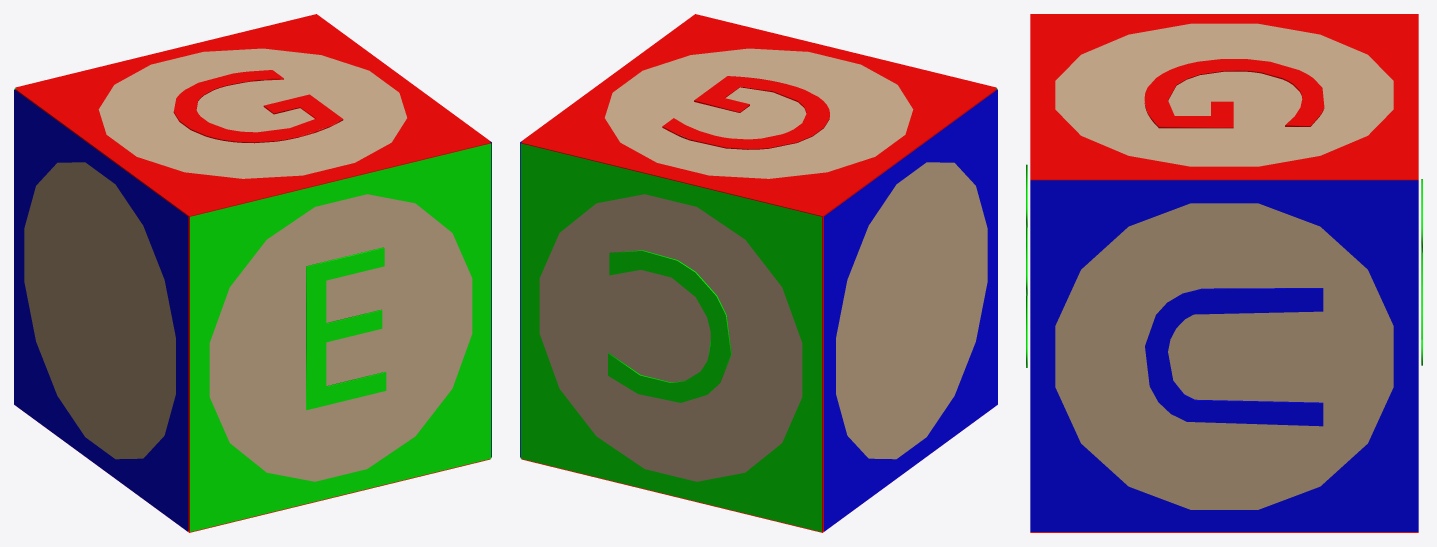
3 views of the same model, side by side, from view 1: azimuth 30°, elevation 25°; view 2: azimuth 150°, elevation 25°; view 3: azimuth 270°, elevation 25° (orthographic). The views are drawn at different scales.
Parts seen in each view (by area): view 1: cube; view 2: cube; view 3: cube.
Boxes of the visible parts, x1=… form: cube: x1=14, y1=14, x2=491, y2=532; cube: x1=520, y1=14, x2=997, y2=532; cube: x1=1026, y1=14, x2=1422, y2=532.
Bounding box in the file's own units: 0.0458 × 0.046 × 0.046.
